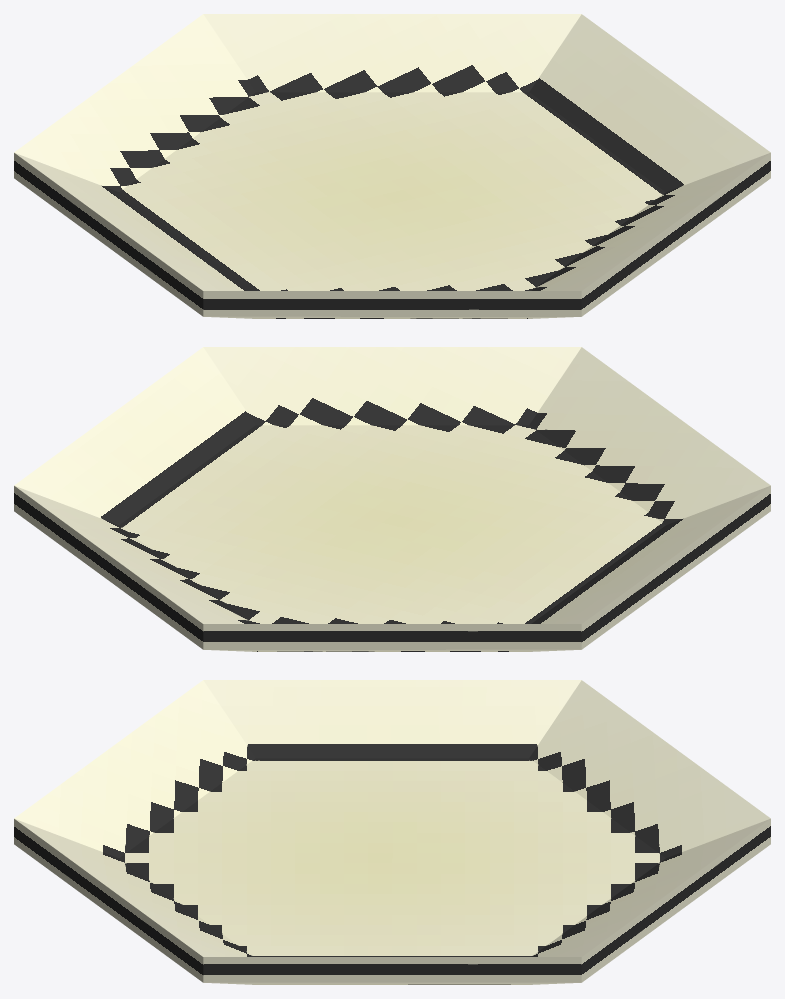
File: dinnerplate.obj
The picture shows the model from 3 angles, top to bottom: view 1: azimuth 30°, elevation 25°; view 2: azimuth 150°, elevation 25°; view 3: azimuth 270°, elevation 25°; orthographic projection.
Visible parts, largest first — view 1: plate; view 2: plate; view 3: plate.
Boxes of the visible parts, x1,y1,x2,y2 form: plate: [14, 14, 770, 318]; plate: [14, 347, 770, 651]; plate: [14, 680, 770, 984].
Size of the model in its own units: 0.6928 by 0.0773 by 0.8.
